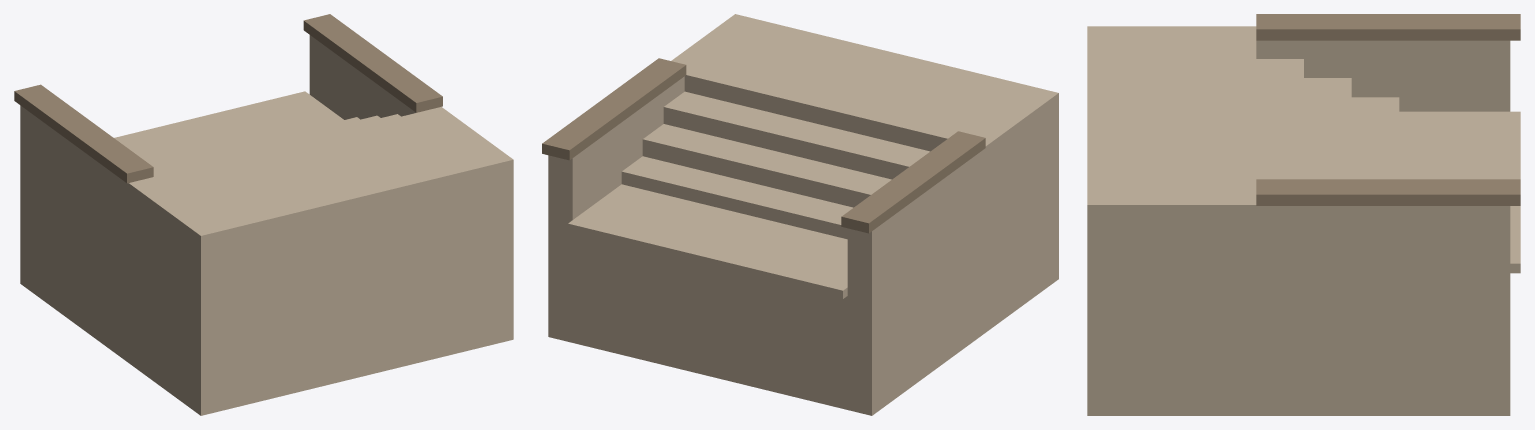
Rendered from city_canal_steps.glb.
3 views of the same model, side by side, from view 1: azimuth 30°, elevation 25°; view 2: azimuth 150°, elevation 25°; view 3: azimuth 270°, elevation 25° (orthographic). The views are drawn at different scales.
Parts seen in each view (by area): view 1: CityCanalSteps_Steps, CityCanalSteps_Cheek0.0, CityCanalSteps_Cheek3.7, CityCanalSteps_Coping0.0, CityCanalSteps_Coping3.7; view 2: CityCanalSteps_Steps, CityCanalSteps_Cheek0.0, CityCanalSteps_Cheek3.7, CityCanalSteps_Coping0.0, CityCanalSteps_Coping3.7; view 3: CityCanalSteps_Cheek3.7, CityCanalSteps_Steps, CityCanalSteps_Cheek0.0, CityCanalSteps_Coping0.0, CityCanalSteps_Coping3.7.
Part boxes in pixels (x1,y1,x2,y2): CityCanalSteps_Steps: (114,91,490,410); CityCanalSteps_Cheek0.0: (20,105,224,415); CityCanalSteps_Cheek3.7: (309,35,513,345); CityCanalSteps_Coping0.0: (14,84,153,183); CityCanalSteps_Coping3.7: (303,14,442,112); CityCanalSteps_Steps: (568,20,1033,409); CityCanalSteps_Cheek0.0: (847,87,1058,415); CityCanalSteps_Cheek3.7: (548,14,758,342); CityCanalSteps_Coping0.0: (841,131,985,233); CityCanalSteps_Coping3.7: (542,58,686,160); CityCanalSteps_Cheek3.7: (1087,191,1510,415); CityCanalSteps_Steps: (1087,39,1520,273); CityCanalSteps_Cheek0.0: (1087,26,1510,111); CityCanalSteps_Coping0.0: (1256,14,1520,40); CityCanalSteps_Coping3.7: (1256,179,1520,205).
Size of the model in its own units: 4.04 by 2.32 by 4.1.
